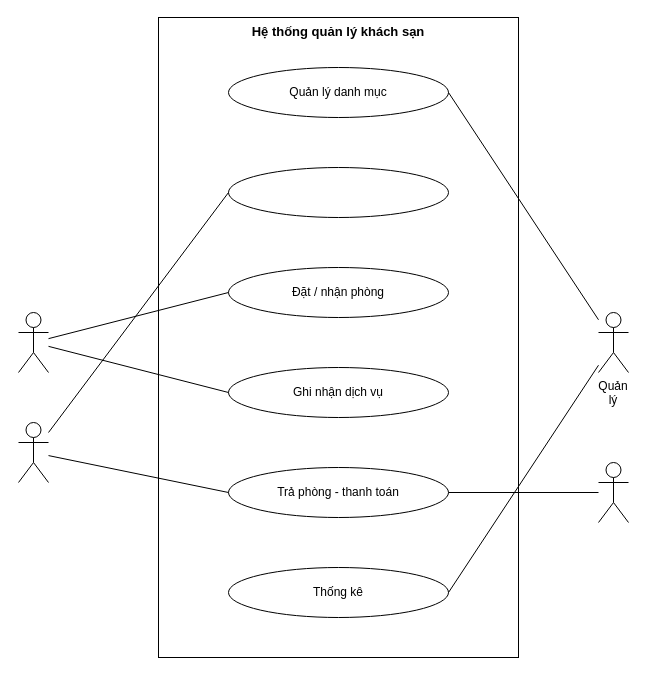
This 646x675 diagram has some shape labels left out. Here are the shapes that lost their labels. From the top down, the centre of each, then its label:
(x=338, y=192): Quản lý phòng - tiện nghi
(x=33, y=342): Lễ tân
(x=33, y=452): Nhân viên phục vụ phòng
(x=613, y=492): Nhân viên thanh toán
